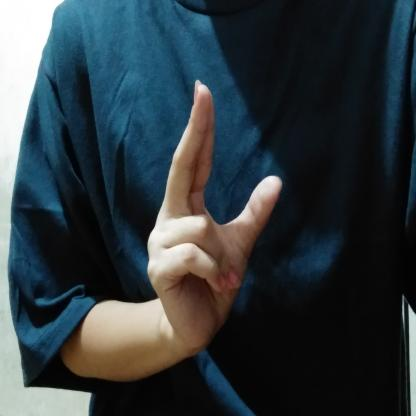who: (140, 77, 288, 365)
